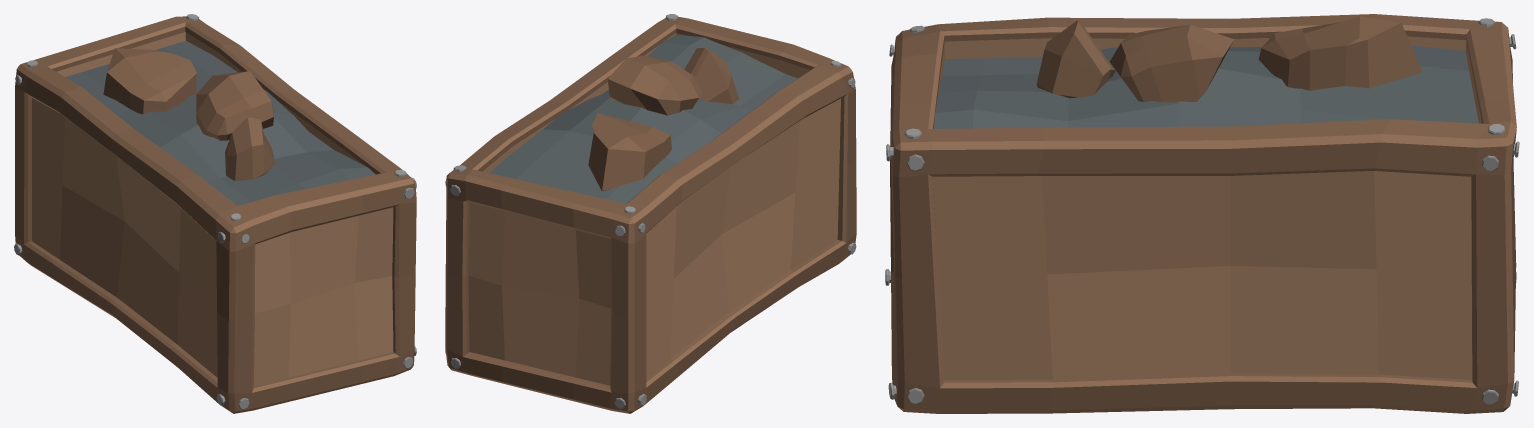
Rendered from Crate_Long_Brown.fbx.
3 views of the same model, side by side, from view 1: azimuth 30°, elevation 25°; view 2: azimuth 150°, elevation 25°; view 3: azimuth 270°, elevation 25° (orthographic). The views are drawn at different scales.
Parts seen in each view (by area): view 1: Crate_Long_Brown, Brown; view 2: Crate_Long_Brown, Brown; view 3: Crate_Long_Brown, Brown.
Part boxes in pixels (bbox=[...]): Crate_Long_Brown: bbox=[14, 14, 416, 413]; Brown: bbox=[103, 48, 275, 181]; Crate_Long_Brown: bbox=[445, 14, 856, 413]; Brown: bbox=[588, 48, 739, 191]; Crate_Long_Brown: bbox=[885, 14, 1519, 413]; Brown: bbox=[1036, 16, 1422, 102].
Size of the model in its own units: 71.1 by 83.96 by 142.
